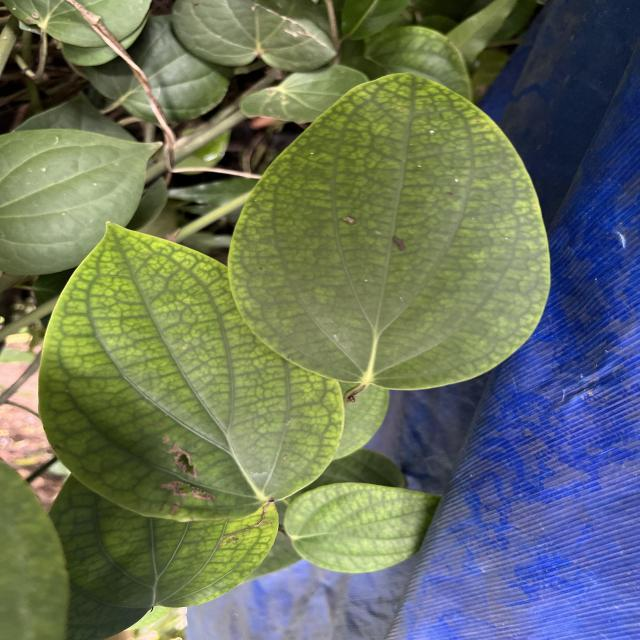Piper nigrum: (225, 70, 554, 393), (35, 219, 348, 524)
